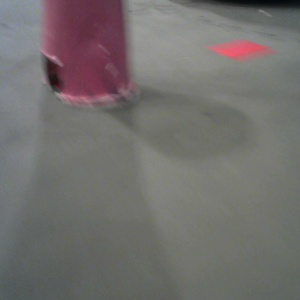middle: (36, 1, 141, 108)
